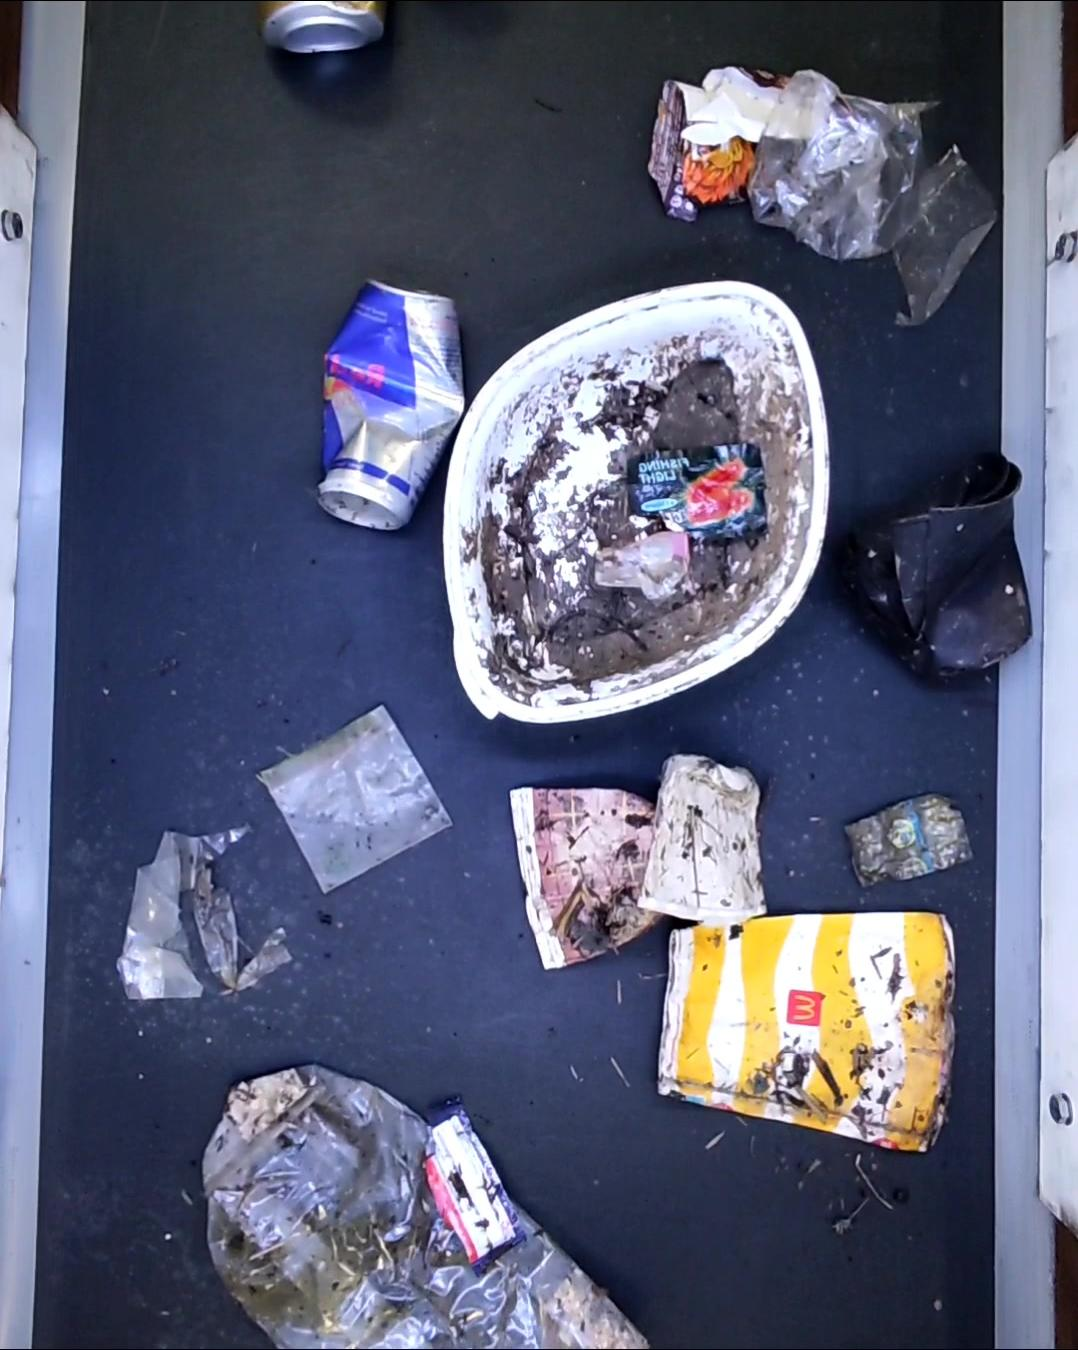Drankblikjes: (315, 281, 465, 530), (252, 0, 392, 52)
Plastic folies of stukken daarvan 2.5- 50 cm: (190, 1052, 648, 1350), (756, 68, 1000, 327), (260, 712, 458, 894), (119, 823, 295, 1005)
Snoep snack en chips verpakkingen: (648, 68, 802, 213), (419, 1104, 521, 1260), (619, 444, 779, 545), (849, 799, 977, 885)
Voedselverpakkingen: (440, 275, 831, 722)
